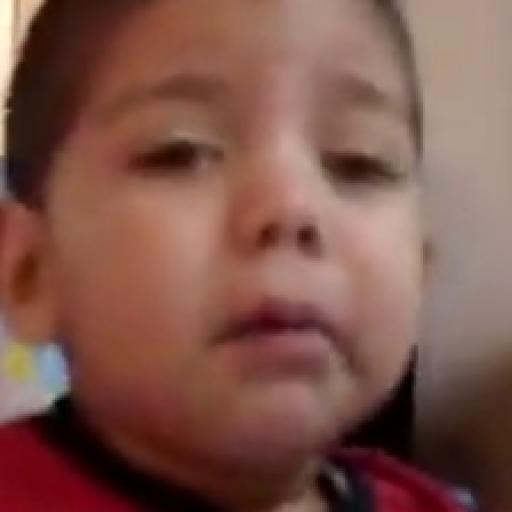Autism: (27, 5, 441, 480)
